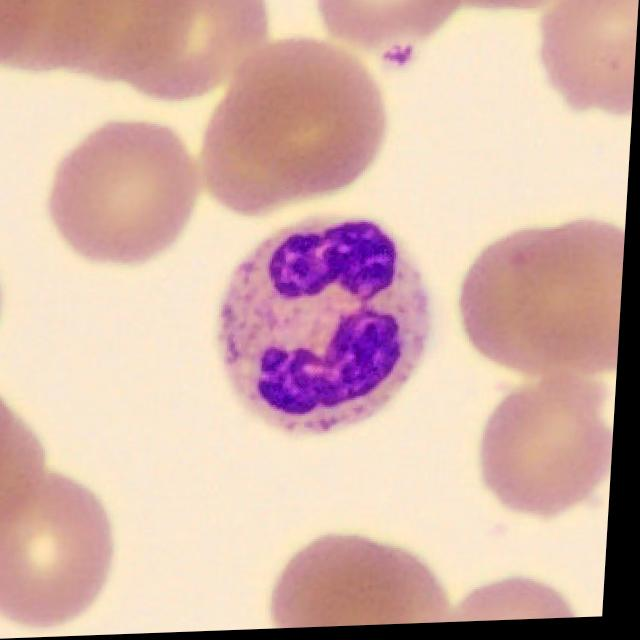Neutrofilo segmentado: (221, 221, 435, 436)
